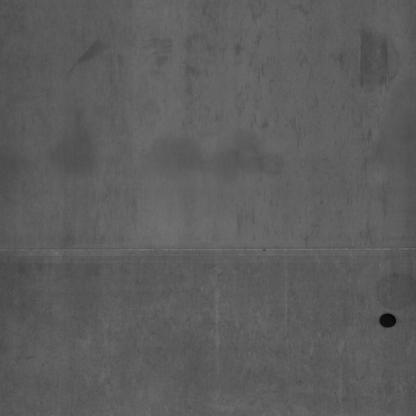punching_hole: (376, 308, 398, 334)
rolled_pit: (356, 30, 392, 97)
welding_line: (2, 238, 416, 268)
